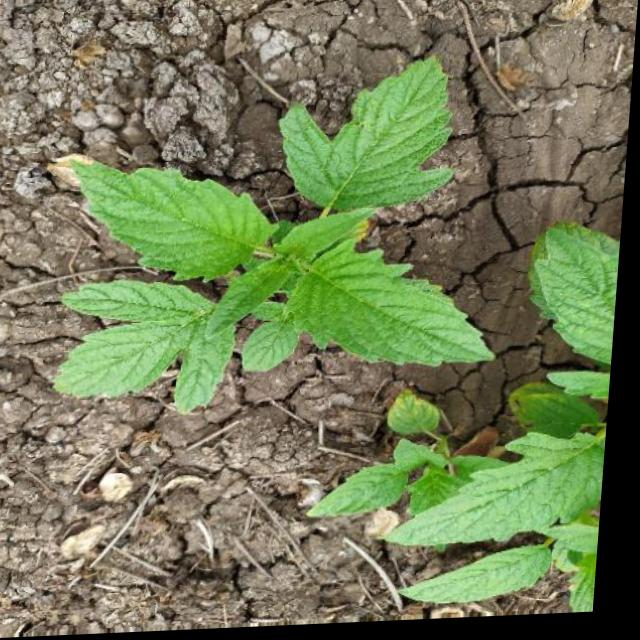crop: (38, 55, 514, 423), (357, 240, 625, 621)
